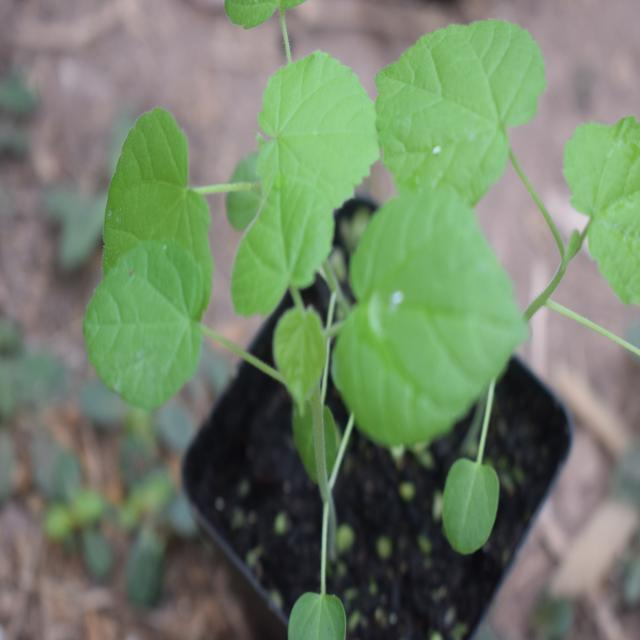abutilon theophrasti: (105, 46, 512, 485)
